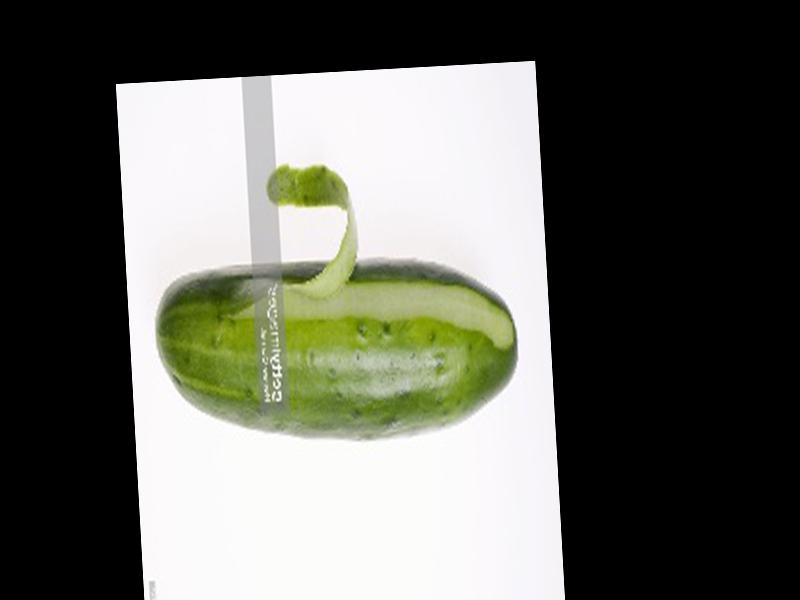Cucumber: (151, 246, 523, 449)
